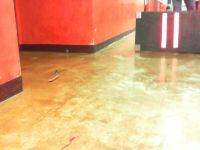switch: (160, 13, 168, 49), (172, 12, 179, 49)
